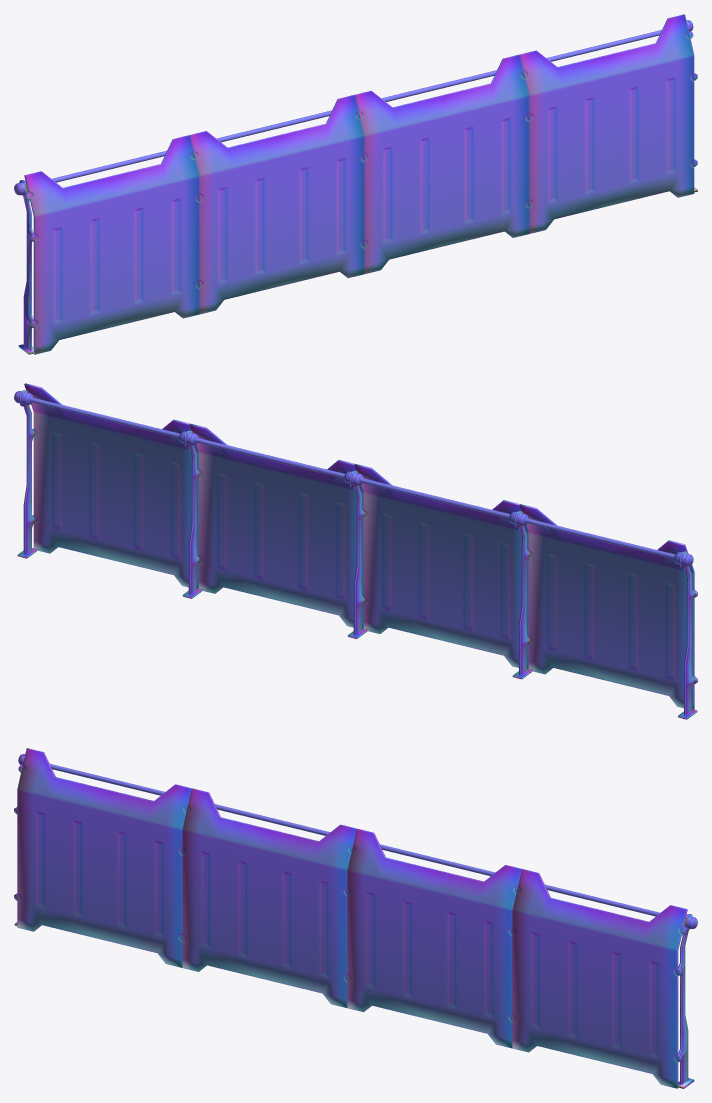
Rendered from handrail.obj.
The picture shows the model from 3 angles, top to bottom: view 1: azimuth 30°, elevation 25°; view 2: azimuth 150°, elevation 25°; view 3: azimuth 330°, elevation 25°; orthographic projection.
Visible parts, largest first — view 1: Cube.006_Cube.017; view 2: Cube.006_Cube.017; view 3: Cube.006_Cube.017.
Boxes of the visible parts, <box> form: Cube.006_Cube.017: <box>14,14,697,354</box>; Cube.006_Cube.017: <box>14,383,697,719</box>; Cube.006_Cube.017: <box>14,748,697,1088</box>.
Bounding box in the file's own units: 4.09 × 1 × 0.1569.
